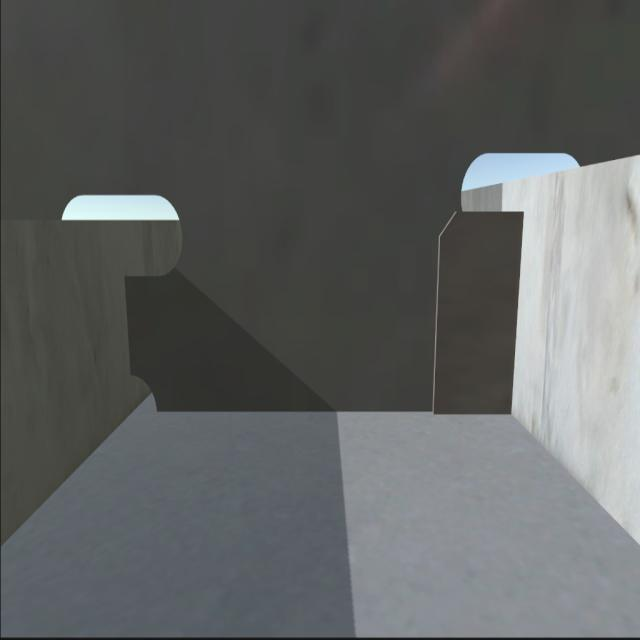fillet_hole: (126, 365, 162, 415)
fillet_yong_jeop_jang: (156, 400, 512, 423)
longi_yong_jeop_jang: (503, 206, 535, 416), (117, 271, 142, 373)
plate_CP03: (426, 211, 514, 415)
